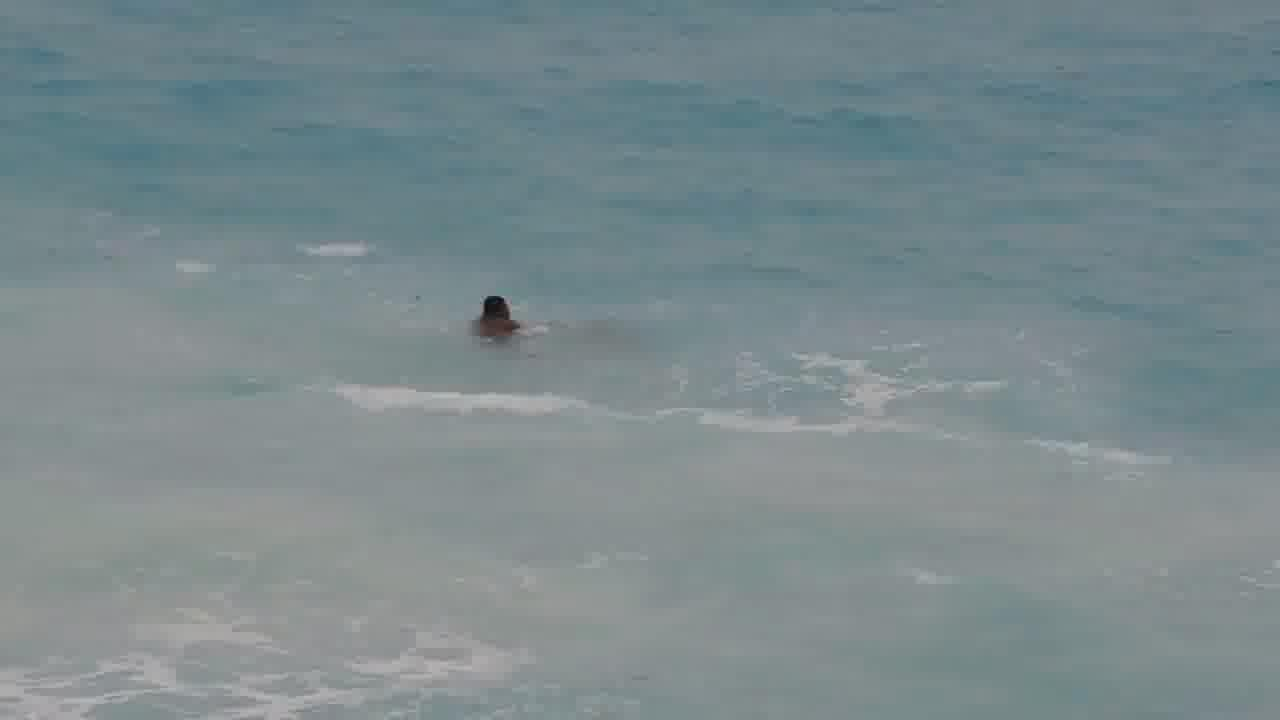human: (459, 289, 540, 338)
